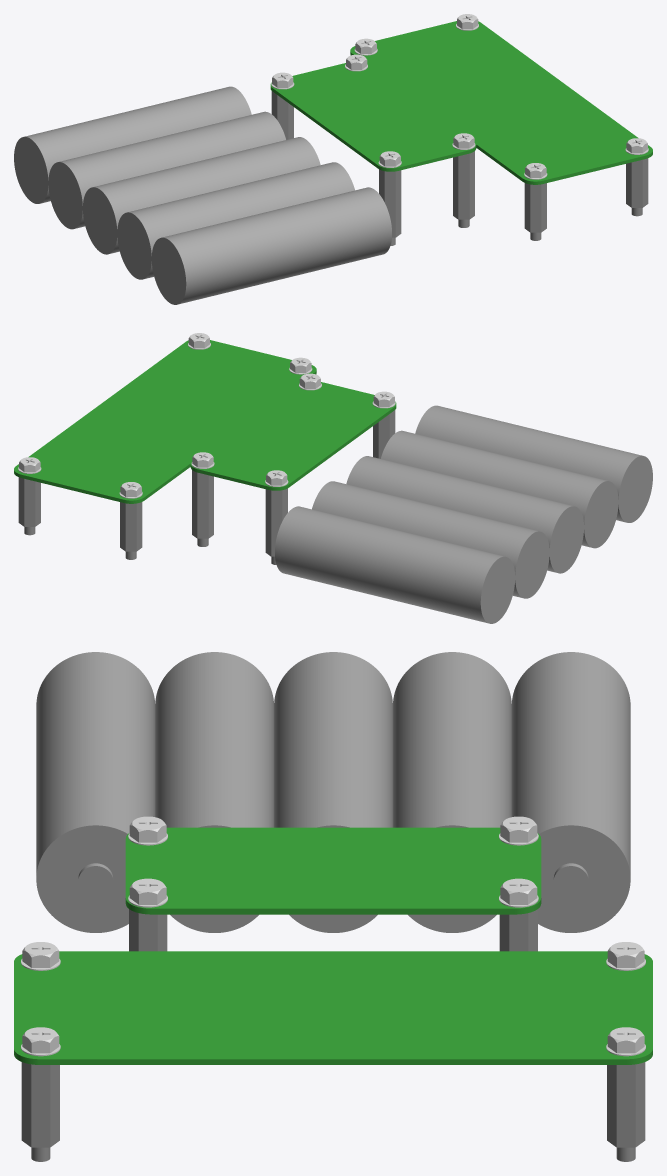
3 renders of one model, top to bottom at view 1: azimuth 30°, elevation 25°; view 2: azimuth 150°, elevation 25°; view 3: azimuth 270°, elevation 25°, orthographic. The views are drawn at different scales.
Parts seen in each view (by area): view 1: out-motorcontroller-board, out-battpack-battery_004, out-controller-board, out-battpack-battery_002, out-battpack-battery_001, out-battpack-battery_000, out-battpack-battery_003, out-controller-standoff_000, out-motorcontroller-standoff_000, out-controller-standoff_001, out-motorcontroller-standoff_001, out-controller-standoff_003; view 2: out-motorcontroller-board, out-battpack-battery_000, out-controller-board, out-battpack-battery_002, out-battpack-battery_004, out-battpack-battery_001, out-battpack-battery_003, out-controller-standoff_002, out-motorcontroller-standoff_003, out-controller-standoff_003, out-motorcontroller-standoff_002, out-controller-standoff_001; view 3: out-motorcontroller-board, out-controller-board, out-battpack-battery_004, out-battpack-battery_000, out-battpack-battery_002, out-battpack-battery_001, out-battpack-battery_003, out-motorcontroller-standoff_002, out-motorcontroller-standoff_001, out-controller-standoff_002, out-controller-standoff_000, out-controller-screw_001 (+7 smaller).
Part boxes in pixels (bbox=[...]): out-motorcontroller-board: bbox=[350, 21, 652, 184]; out-battpack-battery_004: bbox=[151, 187, 391, 304]; out-controller-board: bbox=[270, 63, 476, 171]; out-battpack-battery_002: bbox=[83, 137, 320, 254]; out-battpack-battery_001: bbox=[48, 111, 285, 229]; out-battpack-battery_000: bbox=[14, 86, 251, 203]; out-battpack-battery_003: bbox=[117, 162, 354, 279]; out-controller-standoff_000: bbox=[453, 151, 474, 227]; out-motorcontroller-standoff_000: bbox=[524, 183, 546, 240]; out-controller-standoff_001: bbox=[379, 169, 401, 245]; out-motorcontroller-standoff_001: bbox=[626, 158, 648, 216]; out-controller-standoff_003: bbox=[271, 91, 293, 139]; out-motorcontroller-board: bbox=[14, 340, 316, 503]; out-battpack-battery_000: bbox=[275, 506, 515, 623]; out-controller-board: bbox=[190, 382, 396, 490]; out-battpack-battery_002: bbox=[346, 456, 583, 573]; out-battpack-battery_004: bbox=[415, 405, 652, 522]; out-battpack-battery_001: bbox=[312, 481, 549, 598]; out-battpack-battery_003: bbox=[381, 430, 618, 548]; out-controller-standoff_002: bbox=[192, 470, 213, 546]; out-motorcontroller-standoff_003: bbox=[120, 502, 142, 559]; out-controller-standoff_003: bbox=[265, 488, 287, 564]; out-motorcontroller-standoff_002: bbox=[18, 477, 40, 535]; out-controller-standoff_001: bbox=[373, 410, 395, 458]; out-motorcontroller-board: bbox=[14, 951, 652, 1064]; out-controller-board: bbox=[125, 827, 541, 914]; out-battpack-battery_004: bbox=[36, 652, 155, 932]; out-battpack-battery_000: bbox=[511, 652, 630, 932]; out-battpack-battery_002: bbox=[274, 652, 392, 932]; out-battpack-battery_001: bbox=[393, 652, 511, 932]; out-battpack-battery_003: bbox=[155, 652, 273, 932]; out-motorcontroller-standoff_002: bbox=[607, 1062, 645, 1161]; out-motorcontroller-standoff_001: bbox=[21, 1062, 59, 1161]; out-controller-standoff_002: bbox=[499, 909, 537, 951]; out-controller-standoff_000: bbox=[129, 909, 167, 951]; out-controller-screw_001: bbox=[128, 816, 167, 845].
Size of the model in its own units: 0.1452 by 0.0264 by 0.1.
